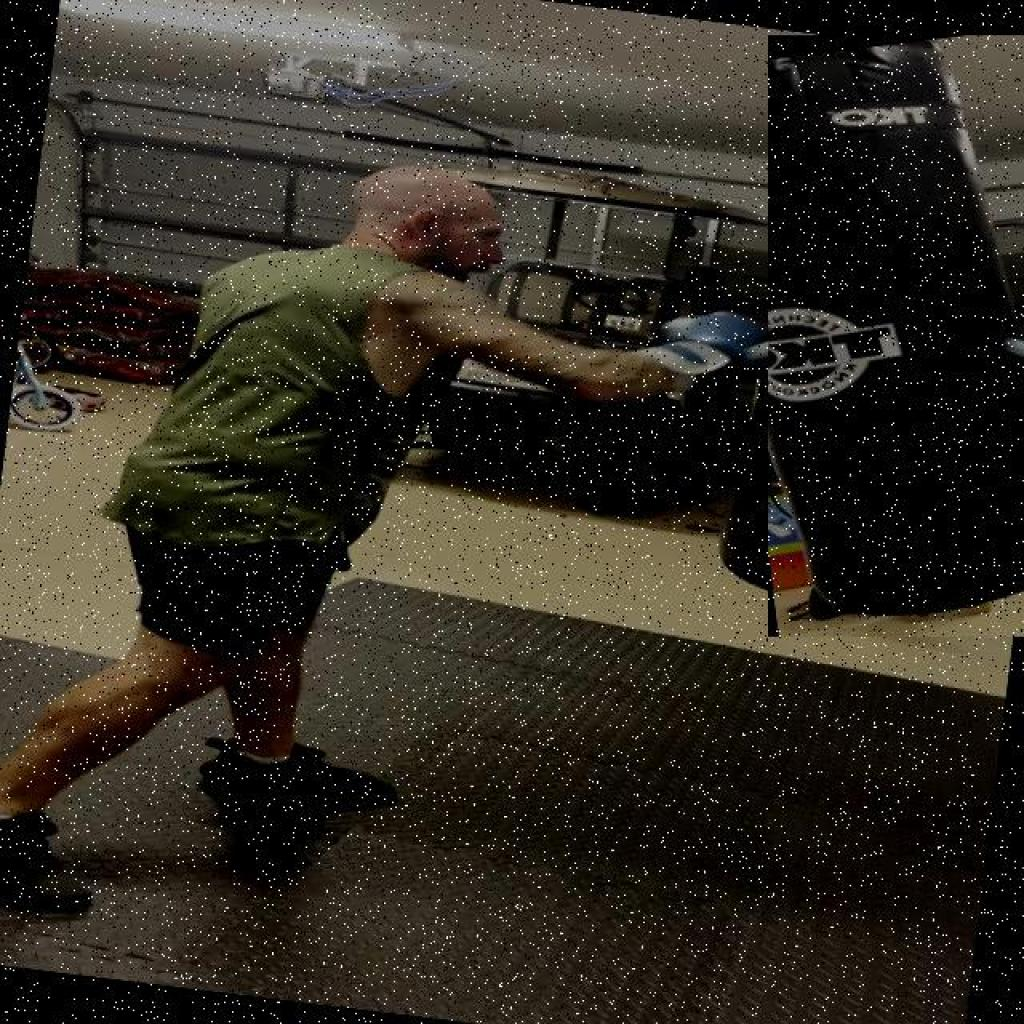bag: (768, 35, 1023, 636)
cross: (102, 70, 846, 496)
